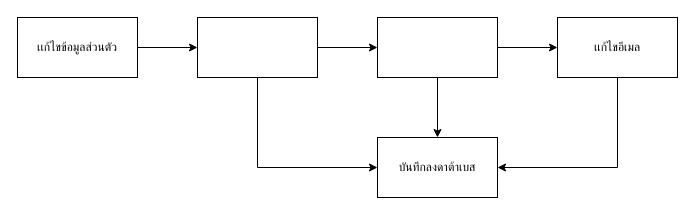
Some shapes in this 695 by 215 pixel diagram are drawn without their labels. The shapes that lost their labels are listed below. From the top down, each one's centre as x and y in pixels, then its label:
(x=257, y=47): เเก้ไขชื่อ-นามสกุล
(x=437, y=47): เเก้ไขเบอร์โทรศัพท์
